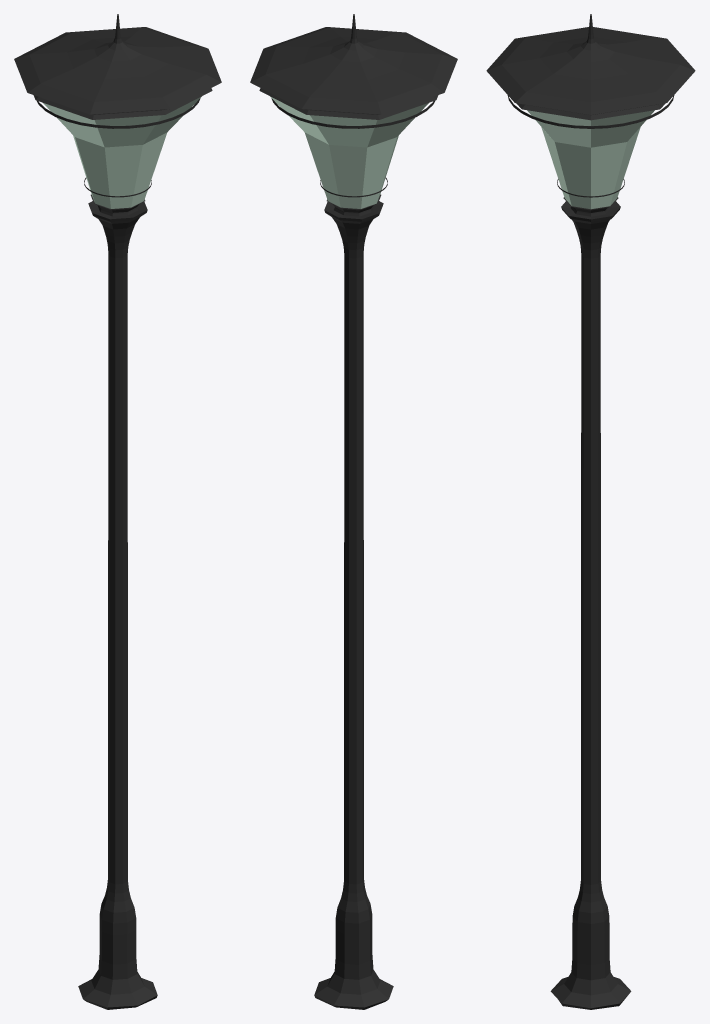
File: ParkLantern.fbx
3 views of the same model, side by side, from view 1: azimuth 30°, elevation 25°; view 2: azimuth 150°, elevation 25°; view 3: azimuth 270°, elevation 25° (orthographic).
Visible parts, largest first — view 1: Laterne, Glass, Extras; view 2: Laterne, Glass, Extras; view 3: Laterne, Glass, Extras.
Boxes of the visible parts, x1=… form: Laterne: x1=14, y1=14, x2=221, y2=1009; Glass: x1=43, y1=96, x2=201, y2=208; Extras: x1=37, y1=98, x2=200, y2=197; Laterne: x1=250, y1=14, x2=457, y2=1009; Glass: x1=270, y1=96, x2=428, y2=208; Extras: x1=271, y1=98, x2=434, y2=197; Laterne: x1=486, y1=14, x2=695, y2=1009; Glass: x1=527, y1=110, x2=654, y2=209; Extras: x1=507, y1=95, x2=674, y2=197.
Bounding box in the file's own units: 44.1 × 228 × 44.1.
